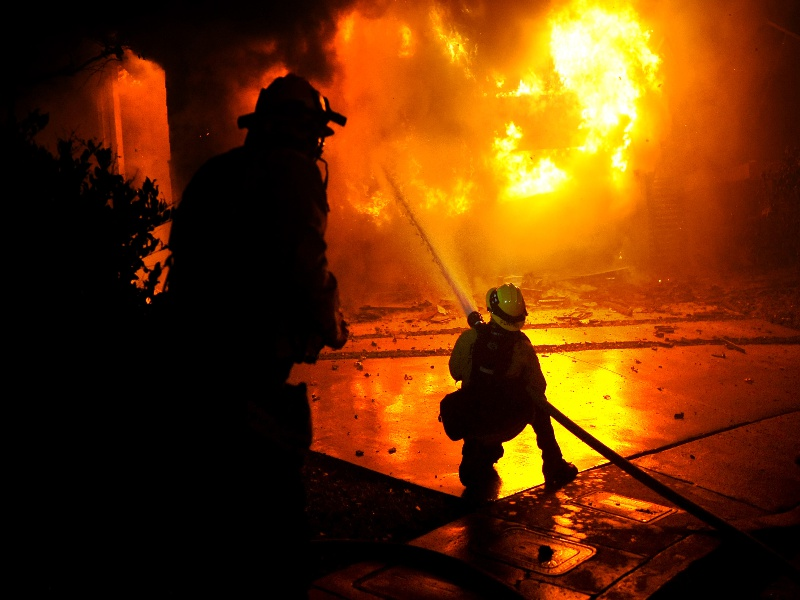fire: (569, 23, 662, 176), (493, 144, 568, 203), (486, 71, 548, 98)
